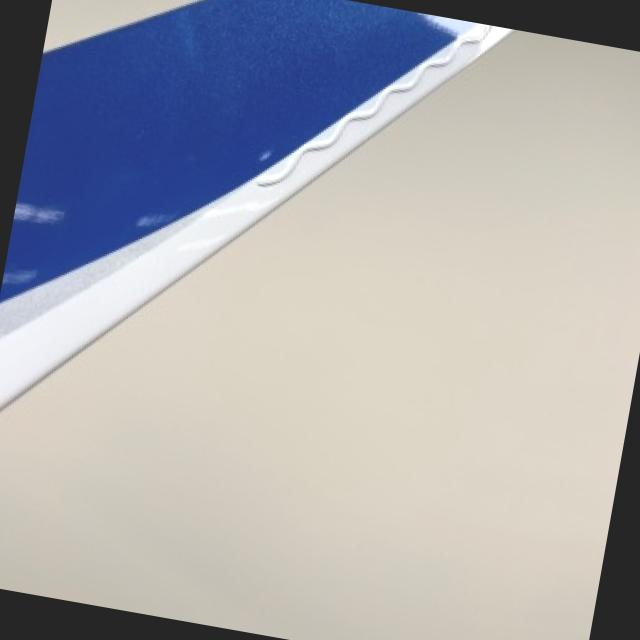healthy: (0, 0, 506, 404)
